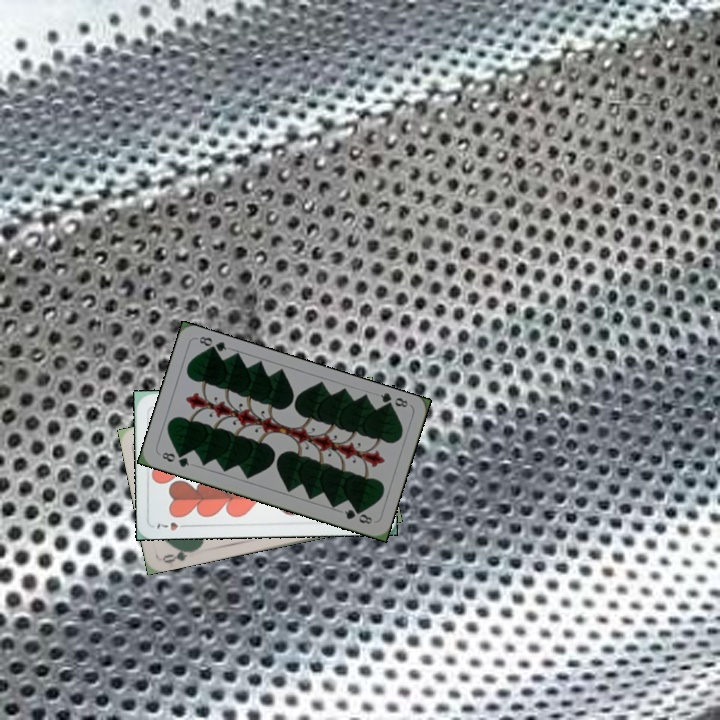G8: (376, 389, 411, 412), (158, 448, 192, 470)
GO: (159, 544, 199, 566)
H7: (153, 518, 192, 533)
